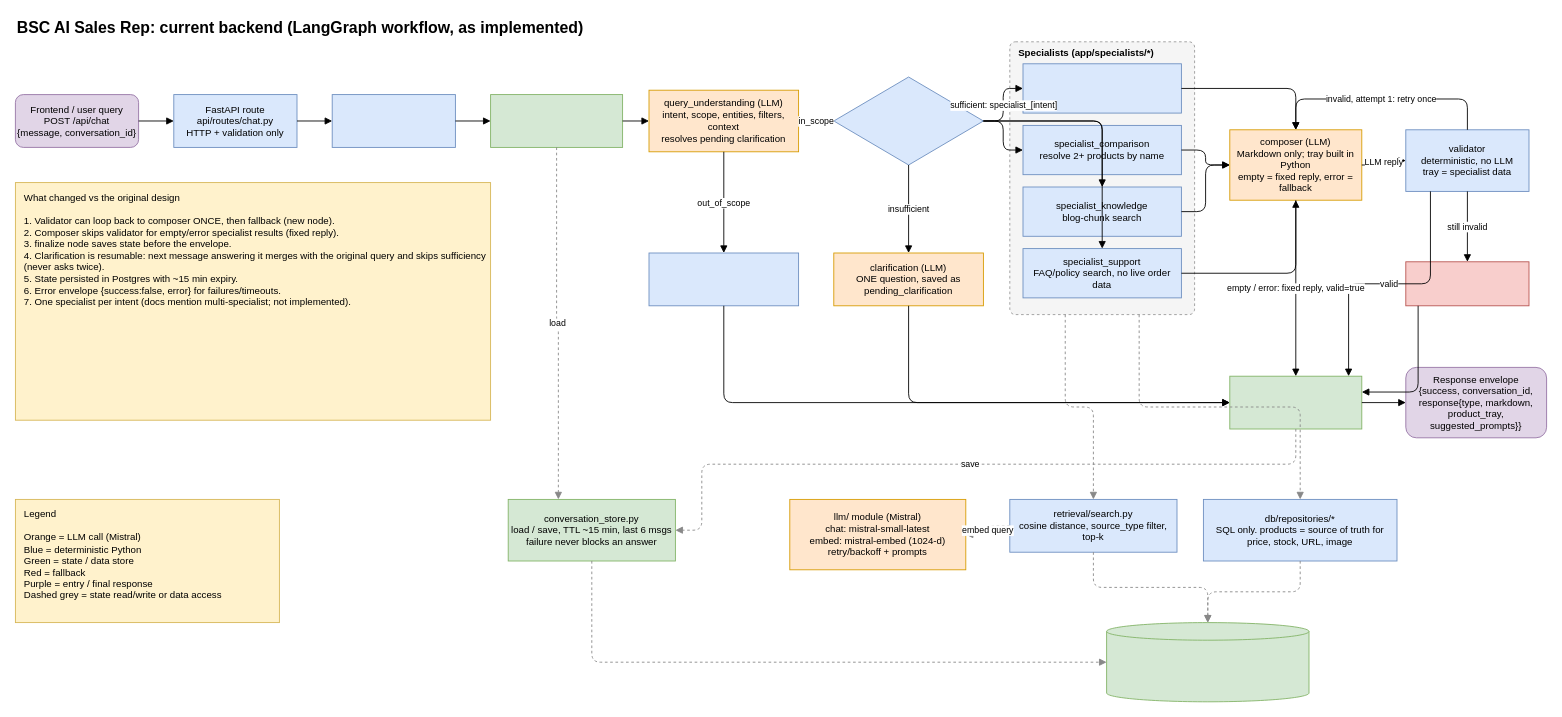
The diagram is 1562 pixels wide and 717 high, and some of its shapes have lost their labels. The centre of each missing label's shape, as x and y in pixels:
Chat Service handle_chat() timeout + error envelope: pixel 393 120
fallback fixed safe reply: pixel 1467 283
finalize save turn: history, shown product IDs, pending: pixel 1295 402
Neon Postgres + pgvector products | embeddings | conversations: pixel 1207 662
out_of_scope polite decline + 1-2 suggested prompts: pixel 723 279
session_loader history, prev product IDs, pending clarification: pixel 556 120
specialist_recommendation vector search, SQL truth, filters, top 5: pixel 1101 88
sufficiency (Python rules) pending answered = always OK: pixel 908 120
